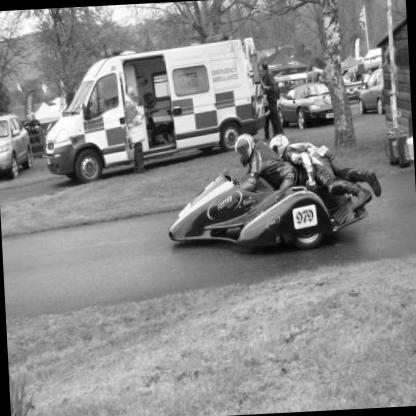ambulance: (37, 34, 268, 187)
